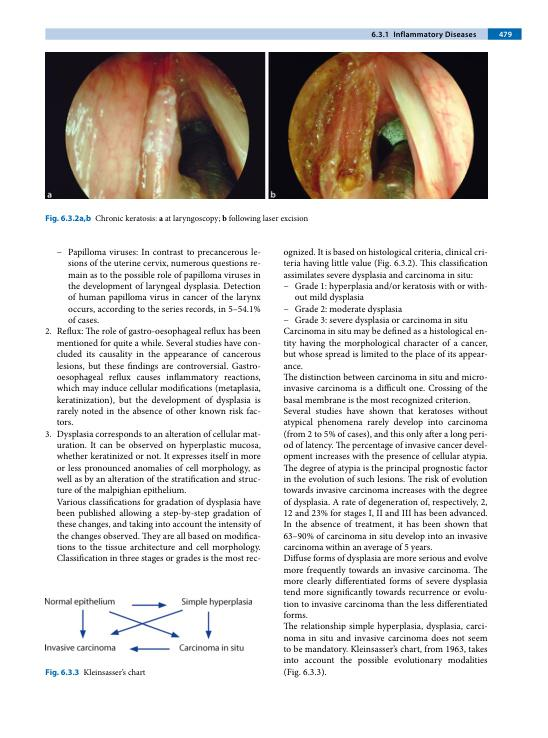caption: (45, 213, 309, 224), (45, 668, 146, 678), (270, 190, 277, 199), (46, 192, 53, 198)
header: (393, 30, 477, 40)
image: (45, 51, 266, 199), (268, 51, 488, 199), (40, 591, 257, 660)
list: (41, 245, 263, 566), (283, 281, 488, 327), (282, 246, 488, 280)
text: (282, 327, 488, 679)
